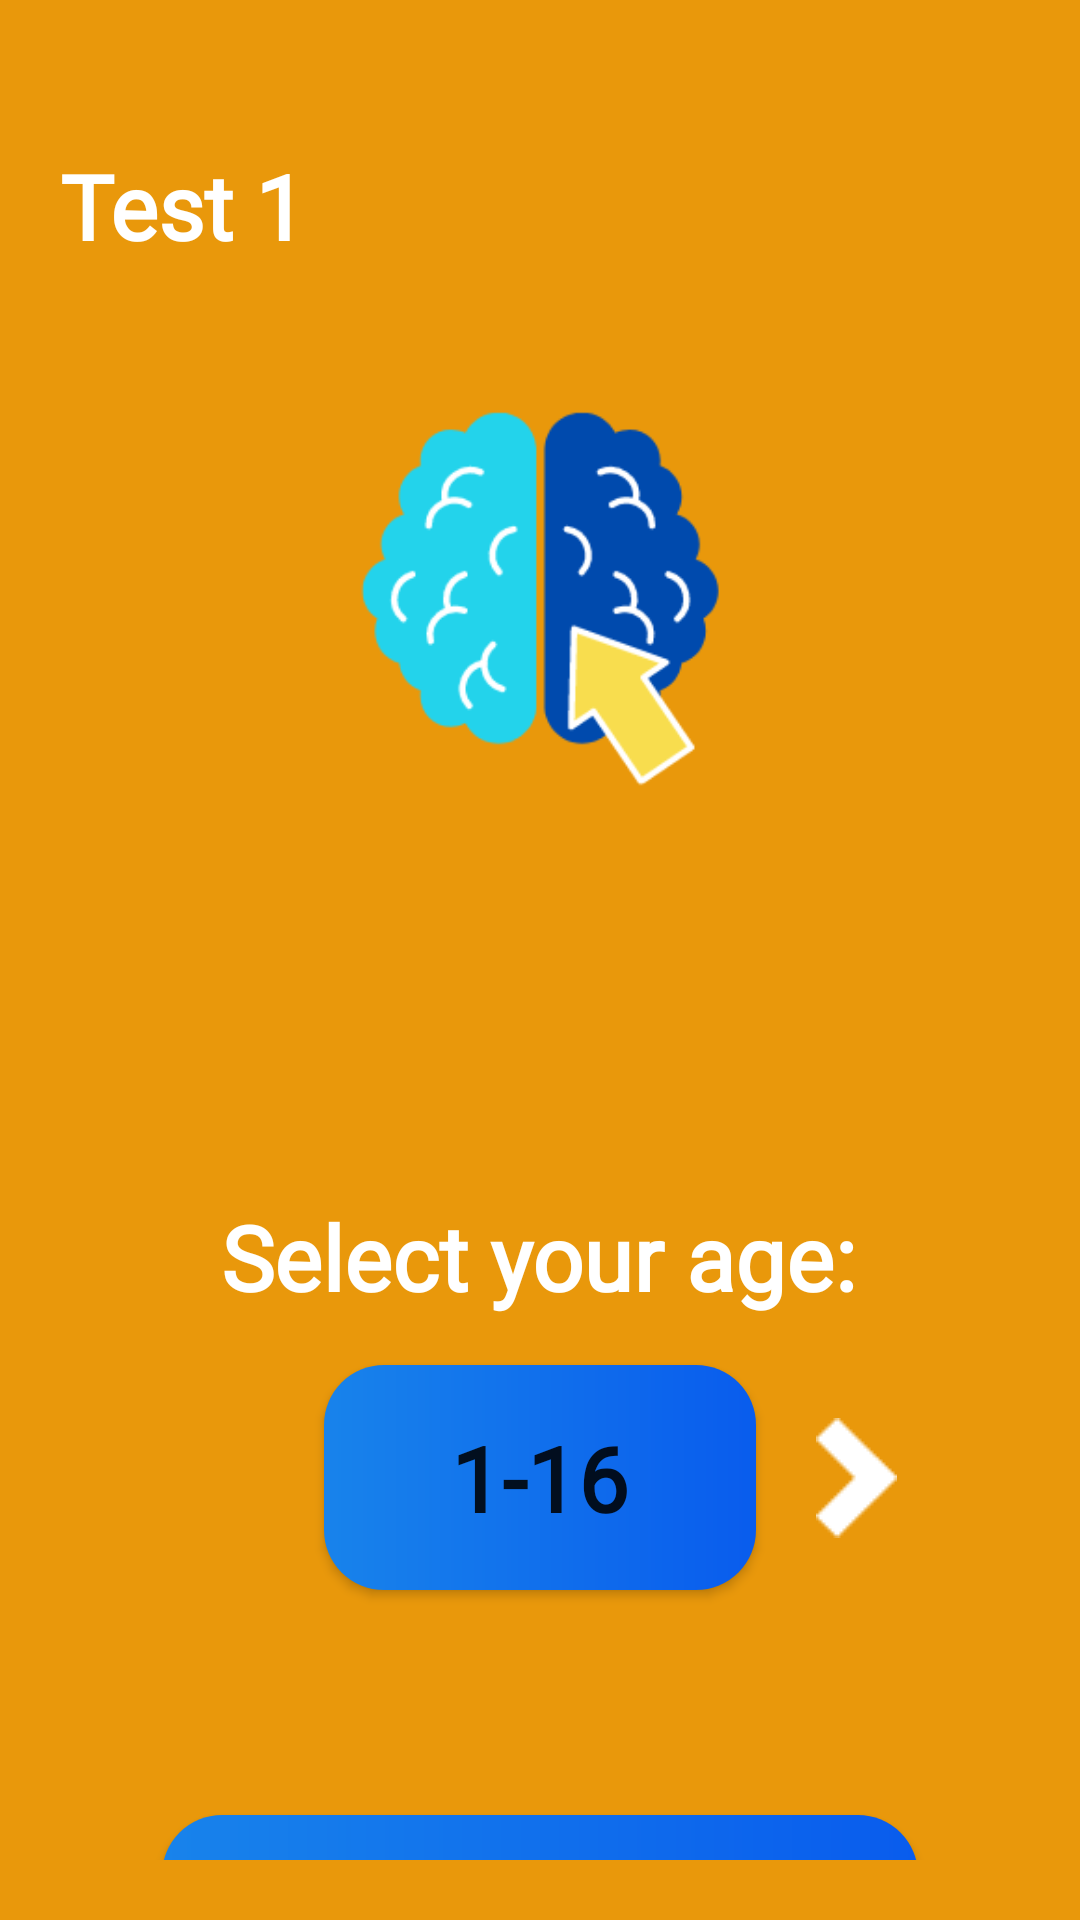

Locate icon controls on the screen. Image size 1080*1920, boxes as [x1, y1, x2, y2].
arrow: [816, 1418, 897, 1538]
